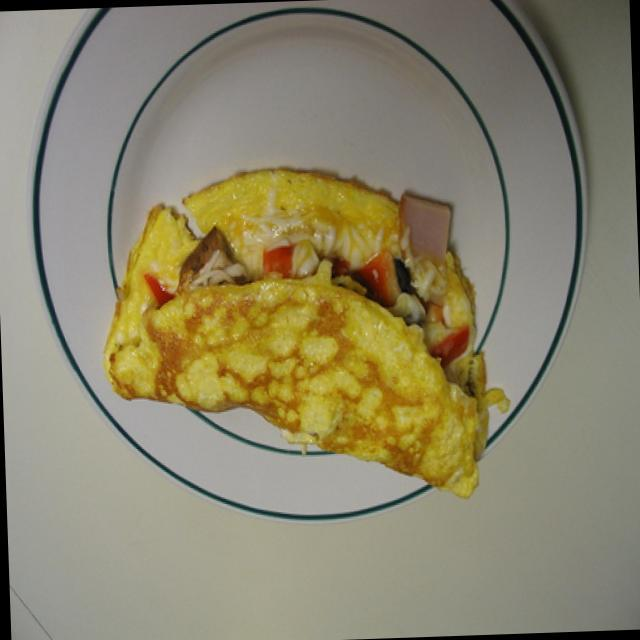Omelet: (100, 160, 516, 520)
